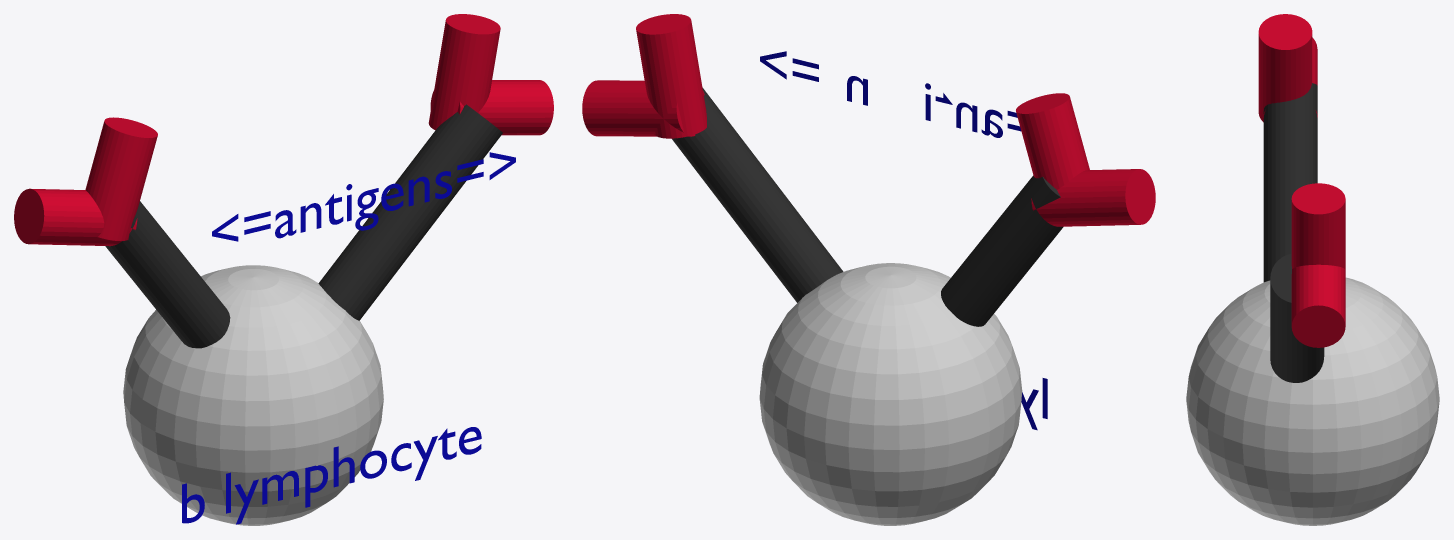
File: b cell.obj
3 views of the same model, side by side, from view 1: azimuth 30°, elevation 25°; view 2: azimuth 150°, elevation 25°; view 3: azimuth 270°, elevation 25° (orthographic). The views are drawn at different scales.
Parts seen in each view (by area): view 1: Sphere_Sphere.001, Cylinder.001_Cylinder.002, Cylinder_Cylinder.001, Cylinder.003_Cylinder.004, Cylinder.005_Cylinder.006, Cylinder.002_Cylinder.003, Text, Text.001, Cylinder.004_Cylinder.005; view 2: Sphere_Sphere.001, Cylinder.001_Cylinder.002, Cylinder_Cylinder.001, Cylinder.005_Cylinder.006, Cylinder.002_Cylinder.003, Cylinder.003_Cylinder.004, Cylinder.004_Cylinder.005, Text.001; view 3: Sphere_Sphere.001, Cylinder_Cylinder.001, Cylinder.003_Cylinder.004, Cylinder.005_Cylinder.006, Cylinder.004_Cylinder.005, Cylinder.001_Cylinder.002.
Part boxes in pixels (x1=…): Sphere_Sphere.001: x1=123, y1=265, x2=383, y2=525; Cylinder.001_Cylinder.002: x1=318, y1=104, x2=502, y2=320; Cylinder_Cylinder.001: x1=105, y1=201, x2=230, y2=348; Cylinder.003_Cylinder.004: x1=85, y1=117, x2=157, y2=240; Cylinder.005_Cylinder.006: x1=428, y1=14, x2=500, y2=130; Cylinder.002_Cylinder.003: x1=14, y1=188, x2=137, y2=246; Text: x1=182, y1=427, x2=481, y2=524; Text.001: x1=212, y1=152, x2=515, y2=241; Cylinder.004_Cylinder.005: x1=430, y1=80, x2=553, y2=135; Sphere_Sphere.001: x1=759, y1=263, x2=1022, y2=525; Cylinder.001_Cylinder.002: x1=672, y1=87, x2=843, y2=302; Cylinder_Cylinder.001: x1=941, y1=175, x2=1063, y2=326; Cylinder.005_Cylinder.006: x1=636, y1=14, x2=706, y2=138; Cylinder.002_Cylinder.003: x1=1031, y1=169, x2=1155, y2=226; Cylinder.003_Cylinder.004: x1=1016, y1=93, x2=1089, y2=189; Cylinder.004_Cylinder.005: x1=582, y1=80, x2=704, y2=136; Text.001: x1=760, y1=51, x2=1021, y2=137; Sphere_Sphere.001: x1=1186, y1=277, x2=1439, y2=525; Cylinder_Cylinder.001: x1=1263, y1=83, x2=1317, y2=282; Cylinder.003_Cylinder.004: x1=1258, y1=14, x2=1312, y2=122; Cylinder.005_Cylinder.006: x1=1291, y1=183, x2=1345, y2=269; Cylinder.004_Cylinder.005: x1=1291, y1=264, x2=1345, y2=347; Cylinder.001_Cylinder.002: x1=1270, y1=253, x2=1324, y2=382.
Size of the model in its own units: 1.11 by 0.8701 by 0.474.
